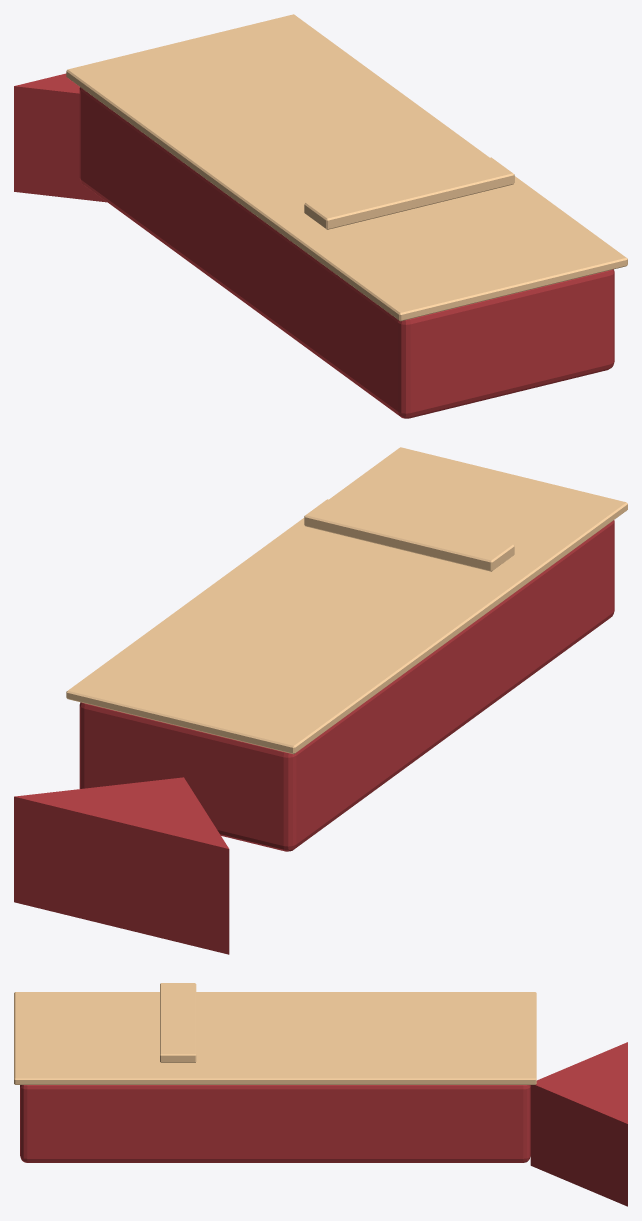
File: boat.glb
3 views of the same model, one above another, from view 1: azimuth 30°, elevation 25°; view 2: azimuth 150°, elevation 25°; view 3: azimuth 270°, elevation 25° (orthographic). The views are drawn at different scales.
Visible parts, largest first — view 1: boat_rim, boat, boat_bow, boat_seat; view 2: boat_rim, boat, boat_bow, boat_seat; view 3: boat_rim, boat, boat_bow, boat_seat.
Boxes of the visible parts, bbox=[...] form: boat_rim: bbox=[66, 14, 627, 321]; boat: bbox=[79, 87, 614, 418]; boat_bow: bbox=[14, 73, 106, 202]; boat_seat: bbox=[304, 157, 514, 229]; boat_rim: bbox=[66, 447, 627, 754]; boat: bbox=[79, 520, 614, 851]; boat_bow: bbox=[14, 777, 229, 954]; boat_seat: bbox=[304, 499, 514, 571]; boat_rim: bbox=[14, 992, 536, 1084]; boat: bbox=[20, 1085, 530, 1162]; boat_bow: bbox=[530, 1042, 627, 1206]; boat_seat: bbox=[160, 983, 196, 1062].
Size of the model in its own units: 1.7 by 1.34 by 5.05.
